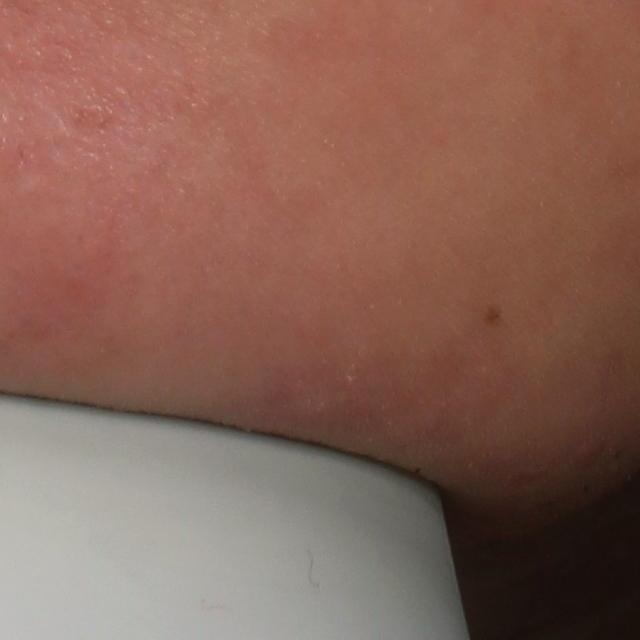nevus: (484, 302, 505, 328)
